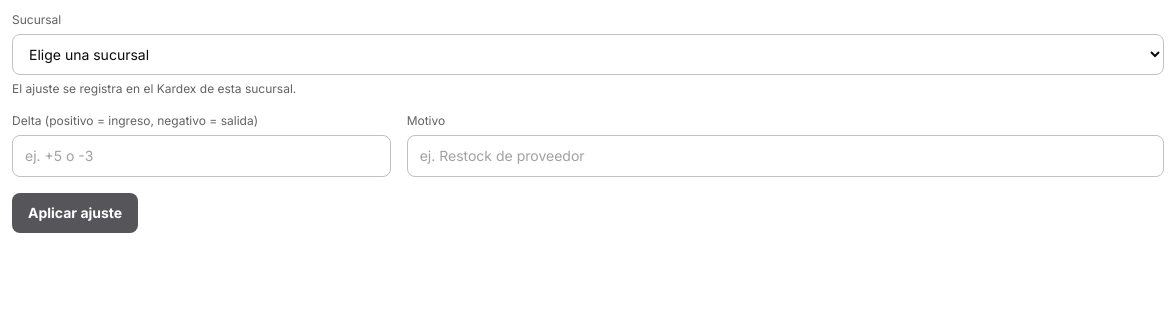
Test: ajuste de inventario · sucursal › sin sucursal por defecto no elige por la persona: pide escogerla
Type "4" into the number field labelled "Delta (positivo = ingreso, negativo = salida)" at (201, 156), box top-left (12, 135), bottom-right (391, 177)
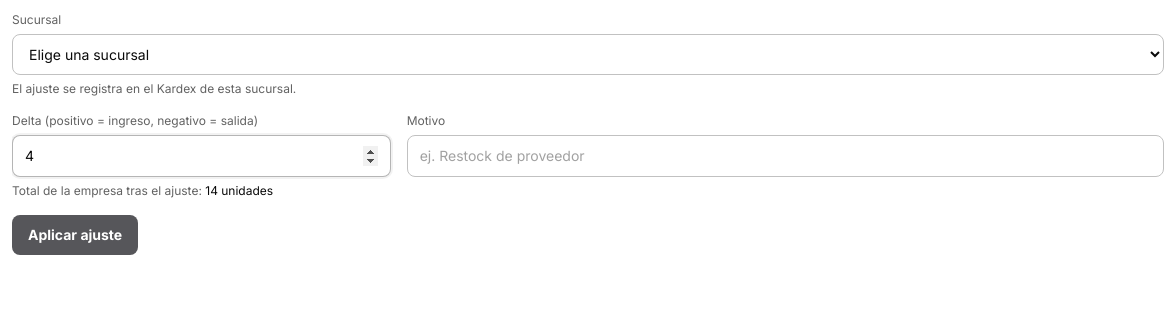
Type "Ingreso de proveedor" into the field labelled "Motivo" at (785, 156), box top-left (407, 135), bottom-right (1164, 177)
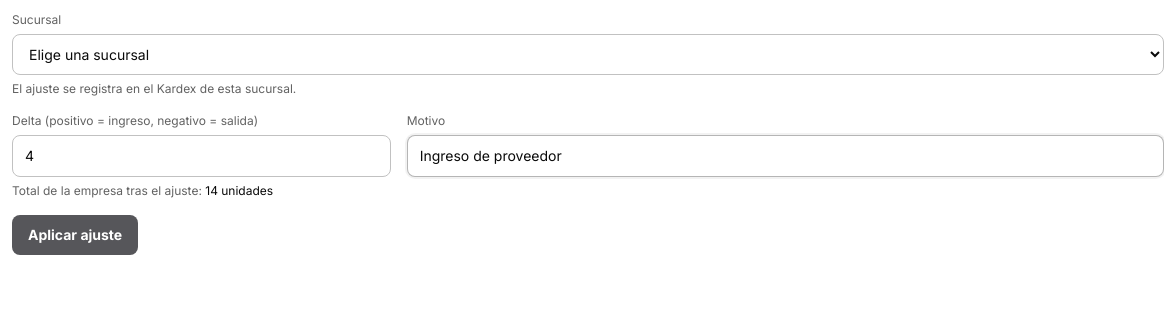
Click the button "Aplicar ajuste" at (75, 235), box top-left (12, 215), bottom-right (138, 255)
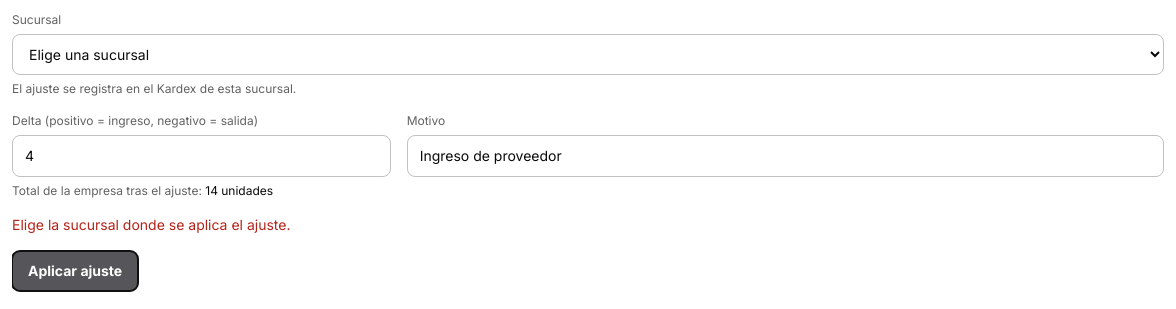
Expected: the message shows "sucursal", top-left (12, 216), bottom-right (290, 233)
